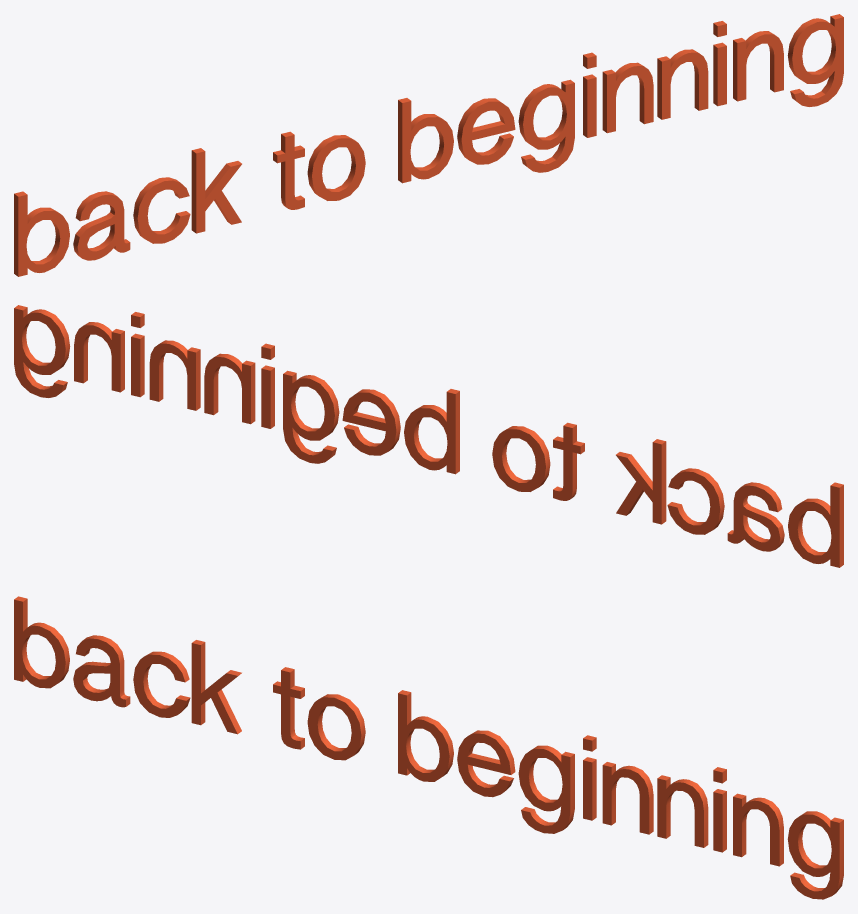
Rendered from back-to-beginning.fbx.
3 renders of one model, top to bottom at view 1: azimuth 30°, elevation 25°; view 2: azimuth 150°, elevation 25°; view 3: azimuth 330°, elevation 25°, orthographic.
Parts seen in each view (by area): view 1: Text; view 2: Text; view 3: Text.
Boxes of the visible parts, bbox=[...] form: Text: bbox=[14, 14, 843, 276]; Text: bbox=[14, 305, 843, 567]; Text: bbox=[14, 596, 843, 899].
Bounding box in the file's own units: 10.92 × 1.32 × 0.1.
